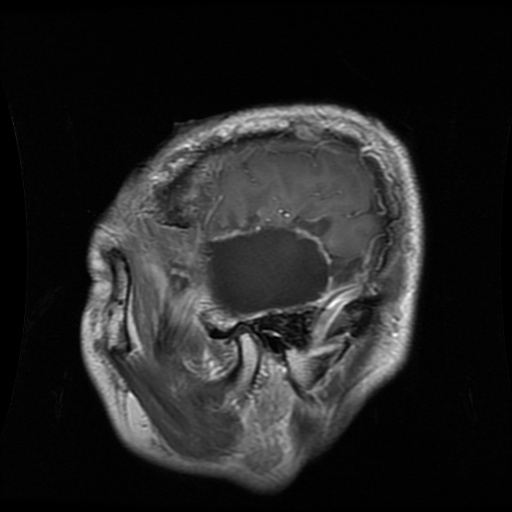glioma: (201, 224, 336, 318)
